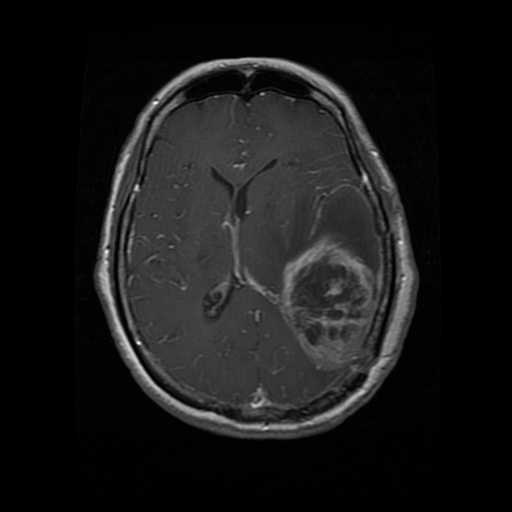glioma: (281, 233, 378, 370)
